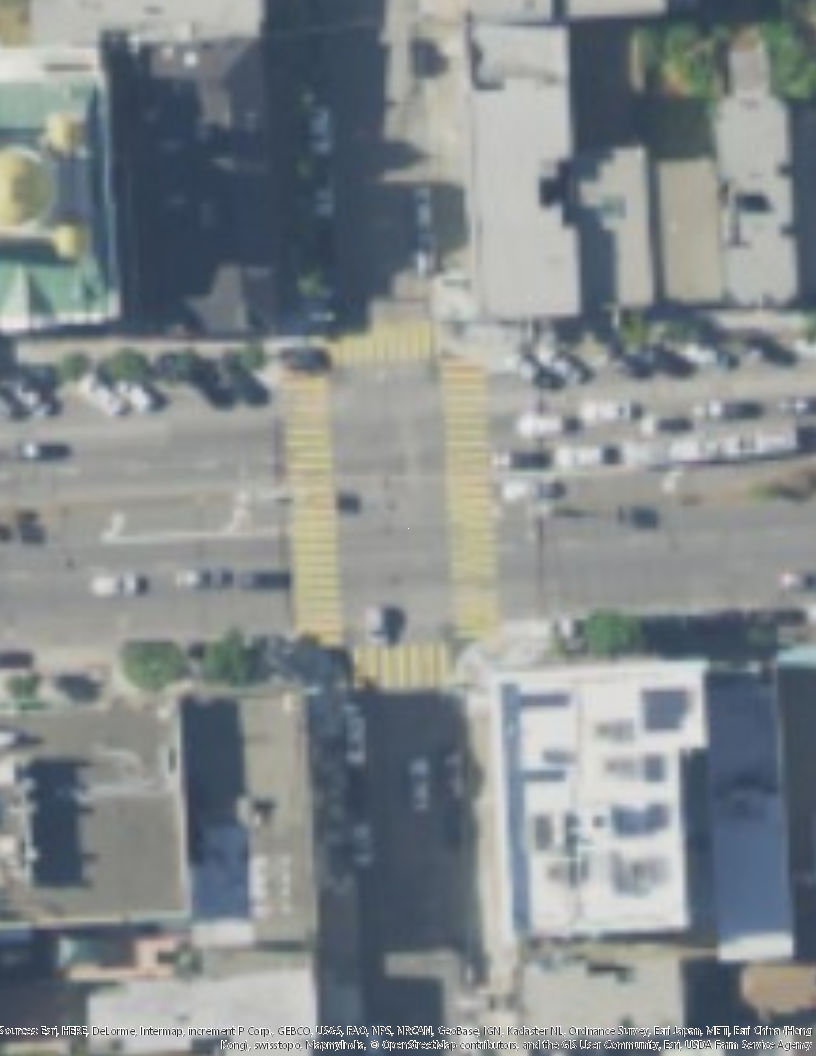zebracross: (435, 362, 505, 638), (275, 373, 345, 645), (319, 321, 449, 360), (347, 649, 449, 691)
